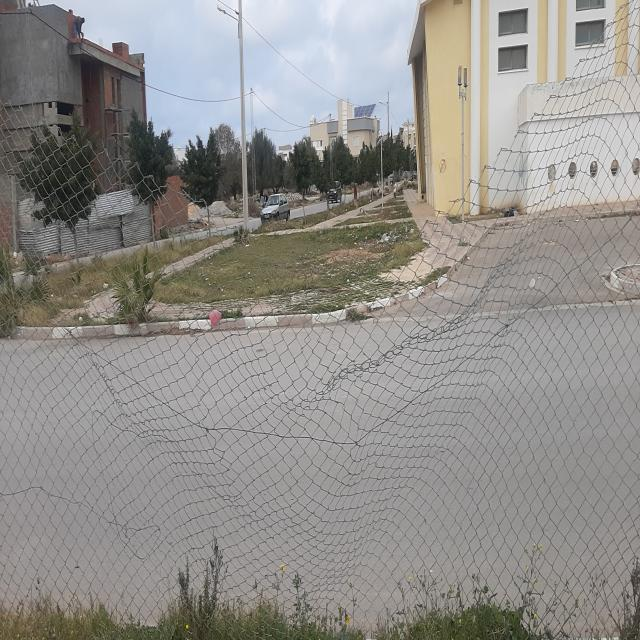fence line: (214, 173, 486, 353)
